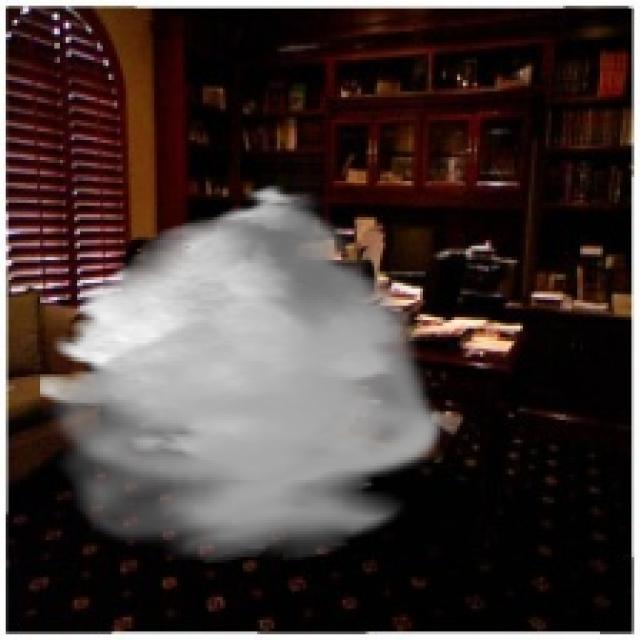smoke: (40, 183, 449, 563)
